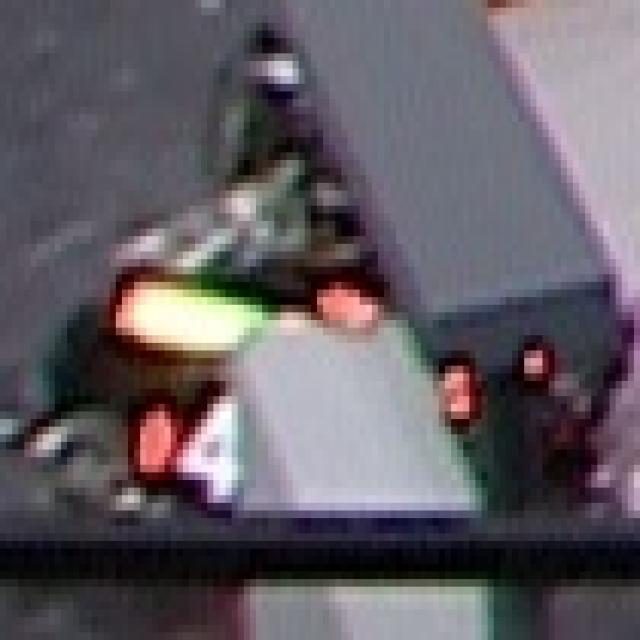R4: (131, 385, 253, 514)
